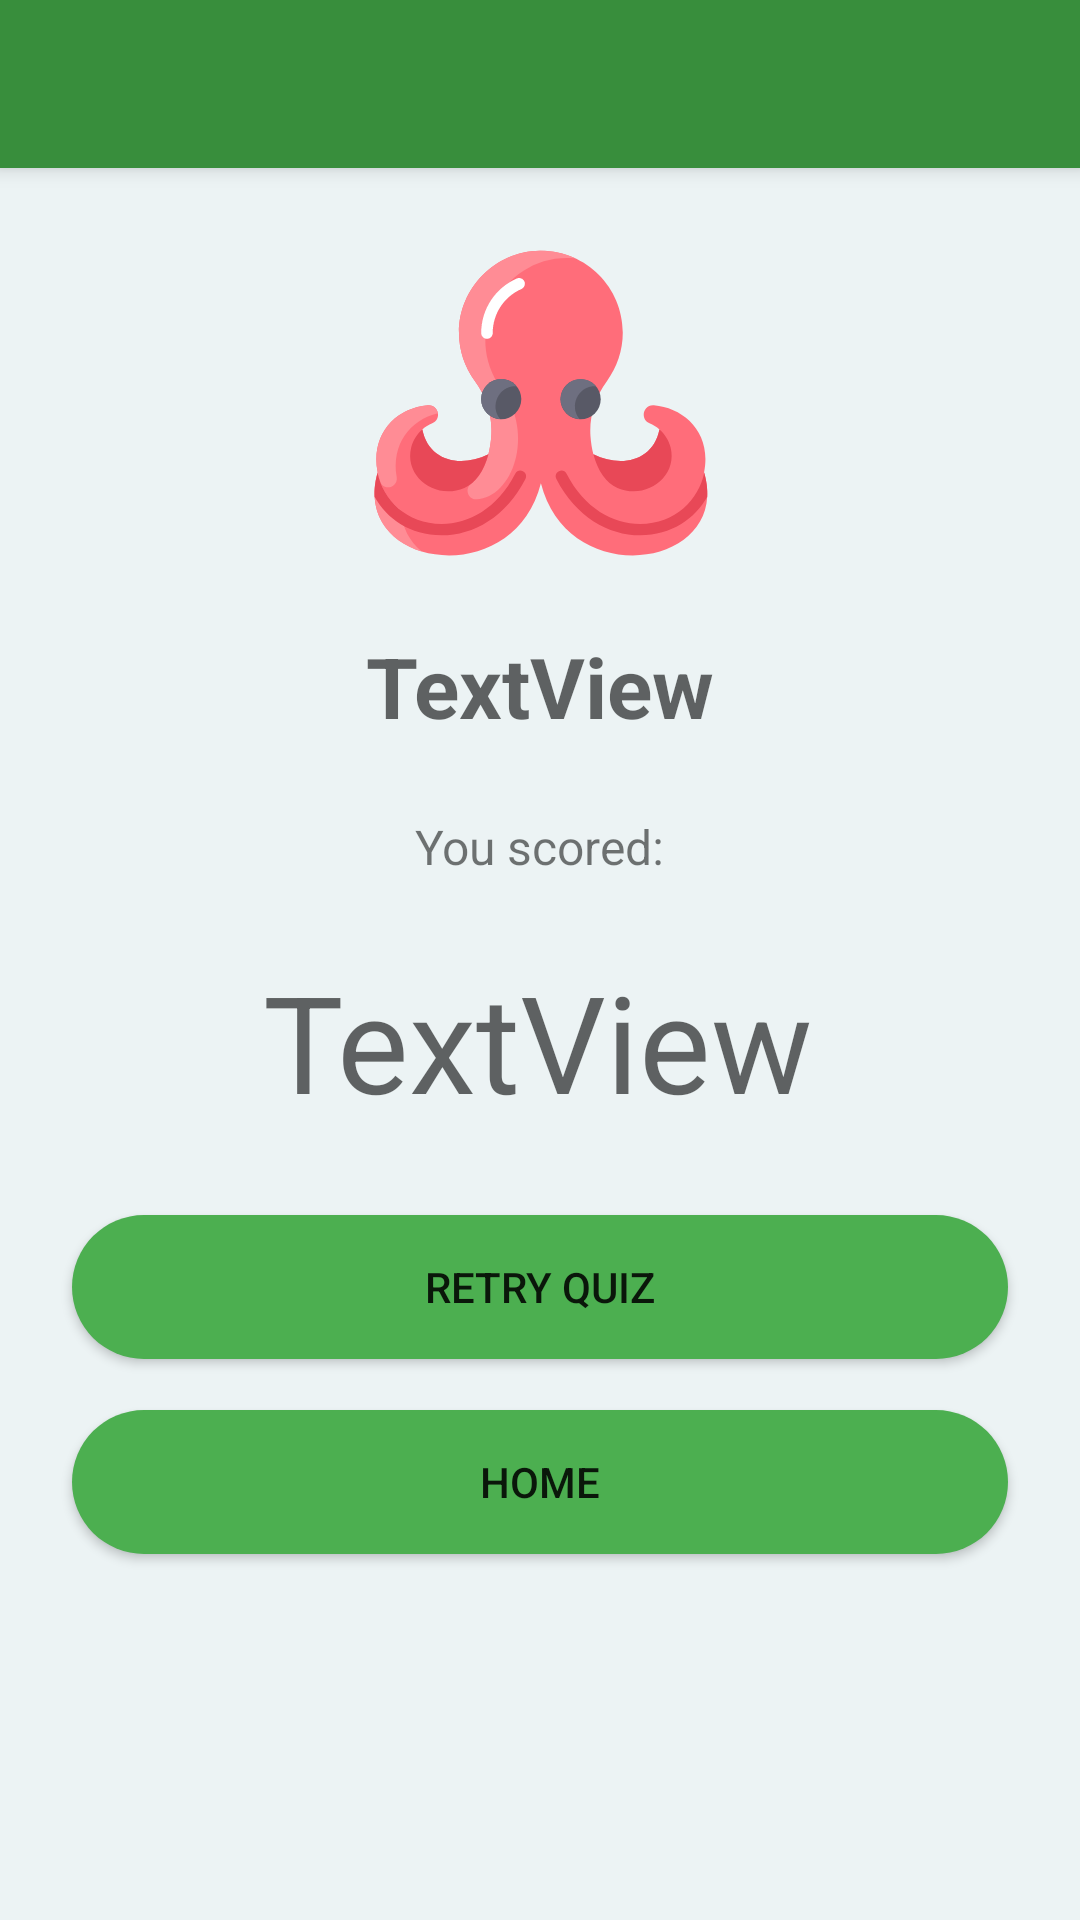

Locate icon controls on the screen. Image size 1080×1920, boxes as [x1,y1,x2,y2].
The quiz result image: [374,250,708,556]
